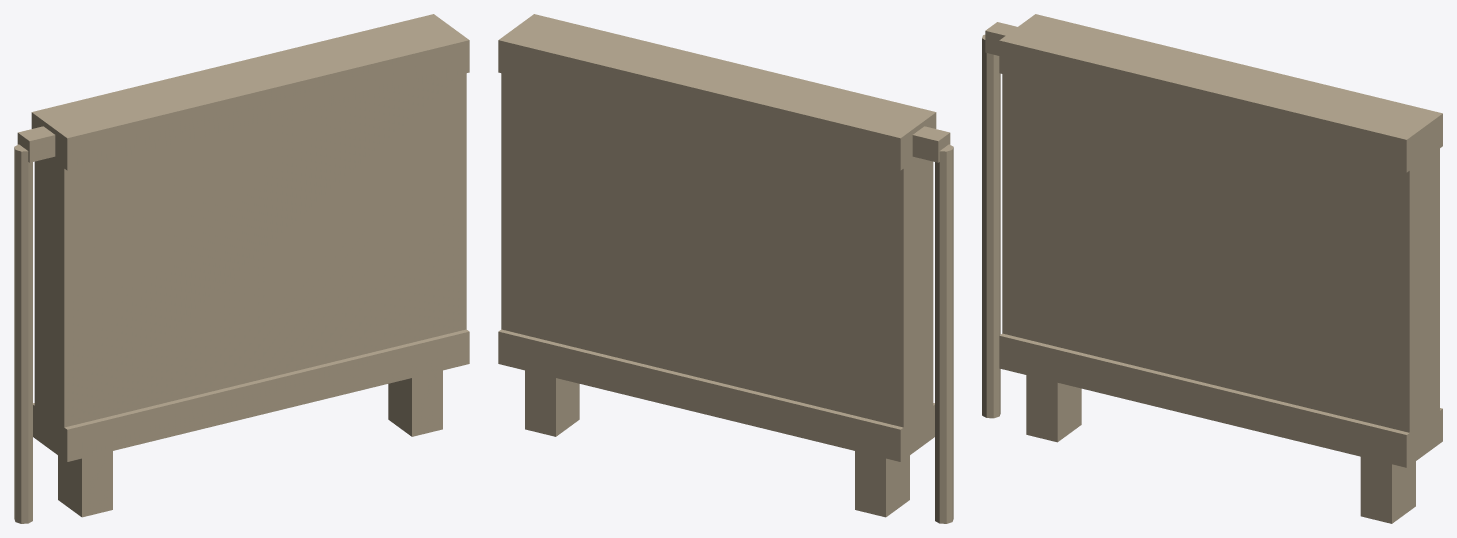
The model's file is radiator-lod1.glb.
3 renders of one model, left to right at view 1: azimuth 30°, elevation 25°; view 2: azimuth 150°, elevation 25°; view 3: azimuth 330°, elevation 25°, orthographic.
Visible parts, largest first — view 1: radiator-lod1; view 2: radiator-lod1; view 3: radiator-lod1.
Part boxes in pixels (left/top/right/bottom): radiator-lod1: left=14, top=14, right=469, bottom=523; radiator-lod1: left=498, top=14, right=953, bottom=523; radiator-lod1: left=982, top=14, right=1442, bottom=523.
Bounding box in the file's own units: 0.846 × 0.72 × 0.12.
